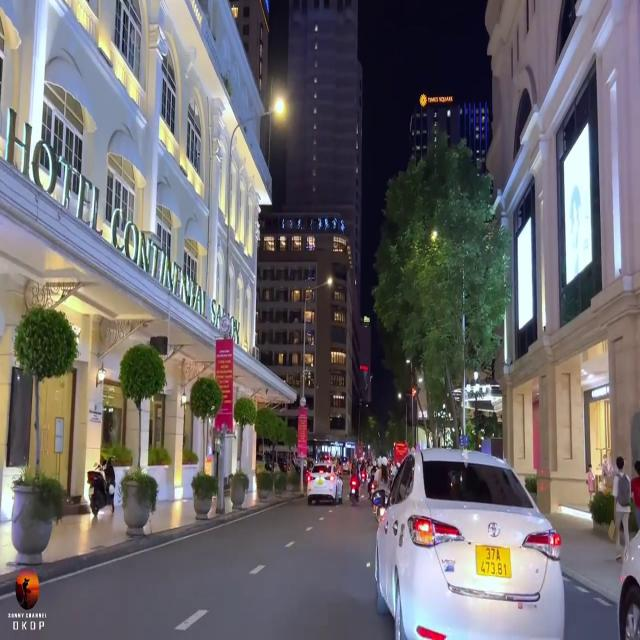bien_vang: (478, 545, 512, 576)
